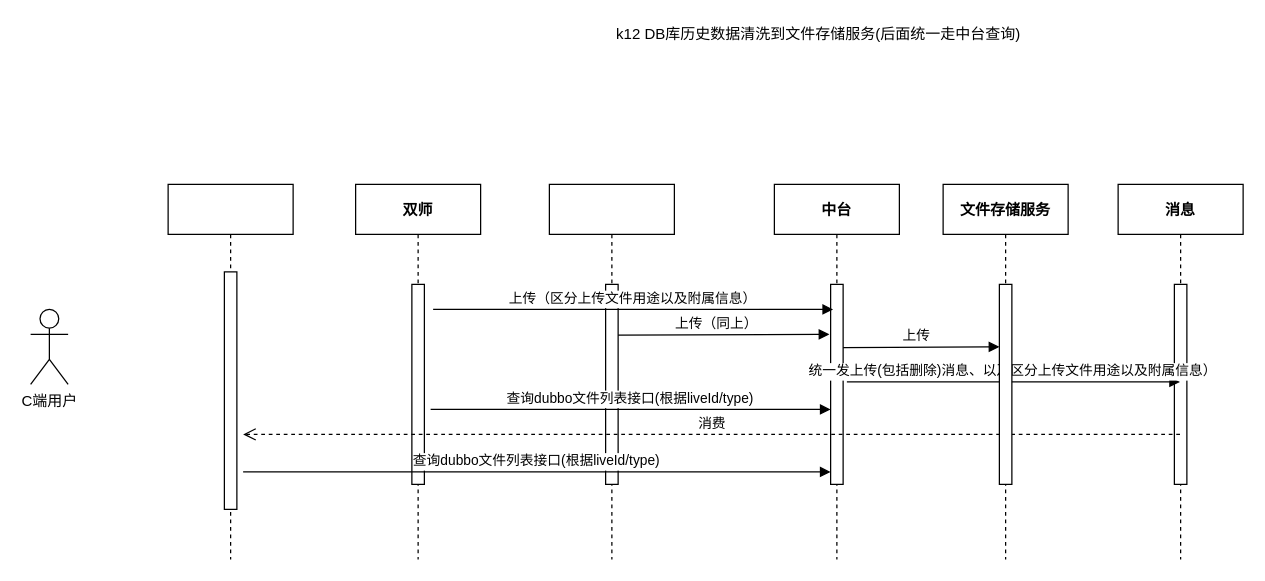
Image size: 1265x581. Some labels were removed from this diagram. Each missing label, with the box of its shape:
k12: (167, 183, 293, 559)
教师端: (548, 183, 674, 559)
